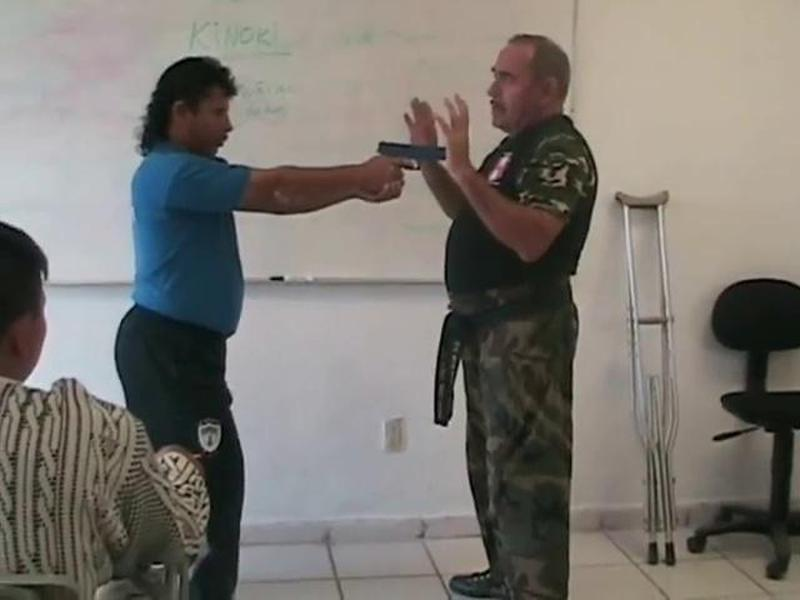Pistola: (349, 127, 457, 202)
